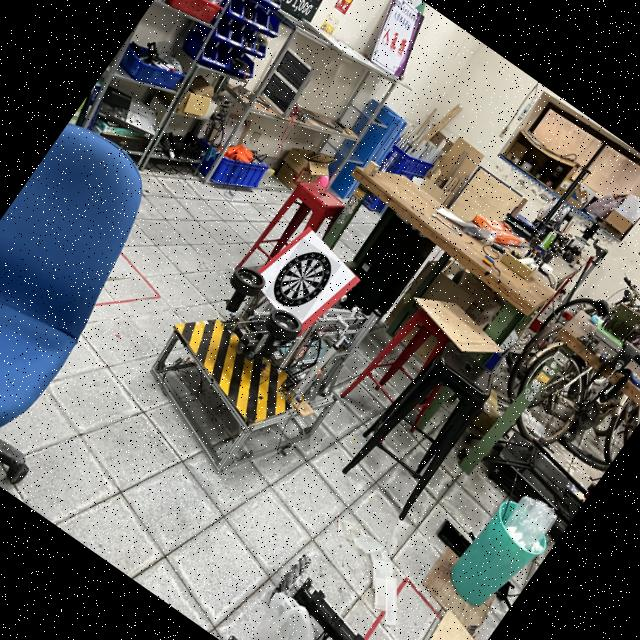archery-targets: (263, 238, 340, 320)
